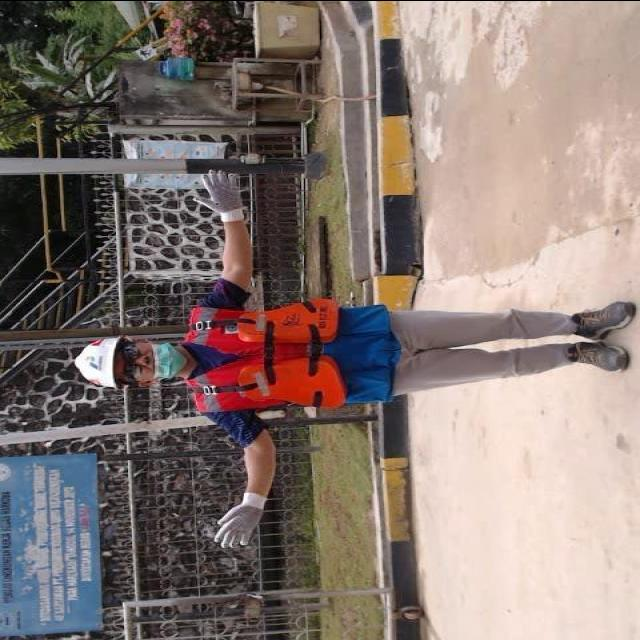helmet: (78, 330, 126, 396)
